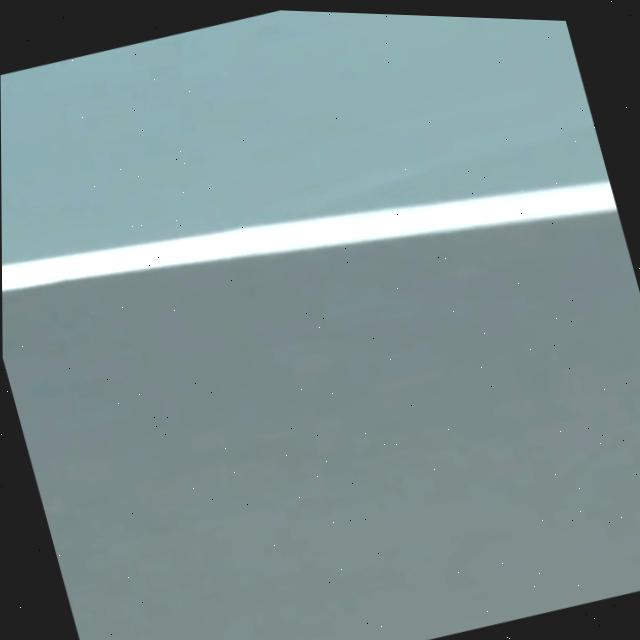left: (2, 180, 617, 290)
